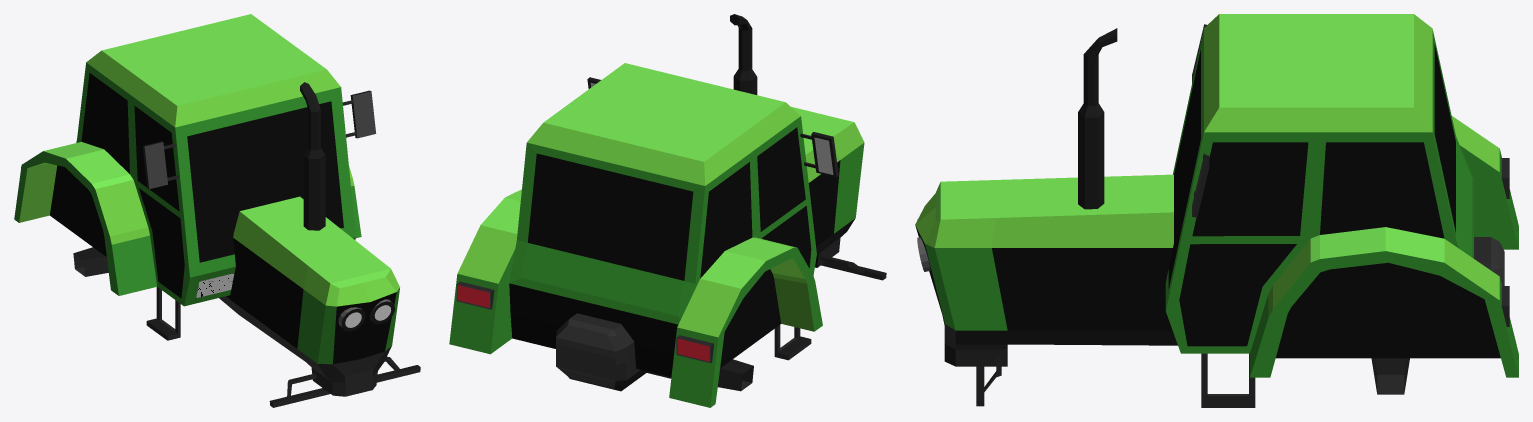
Rendered from Tractor.004.fbx.
The picture shows the model from 3 angles, left to right: view 1: azimuth 30°, elevation 25°; view 2: azimuth 150°, elevation 25°; view 3: azimuth 270°, elevation 25°; orthographic projection. The views are drawn at different scales.
Visible parts, largest first — view 1: Tractor.004; view 2: Tractor.004; view 3: Tractor.004.
Boxes of the visible parts, x1,y1,x2,y2 form: Tractor.004: [14, 14, 420, 407]; Tractor.004: [449, 14, 886, 407]; Tractor.004: [915, 14, 1518, 407].
Bounding box in the file's own units: 2.11 × 2.2 × 3.54.
